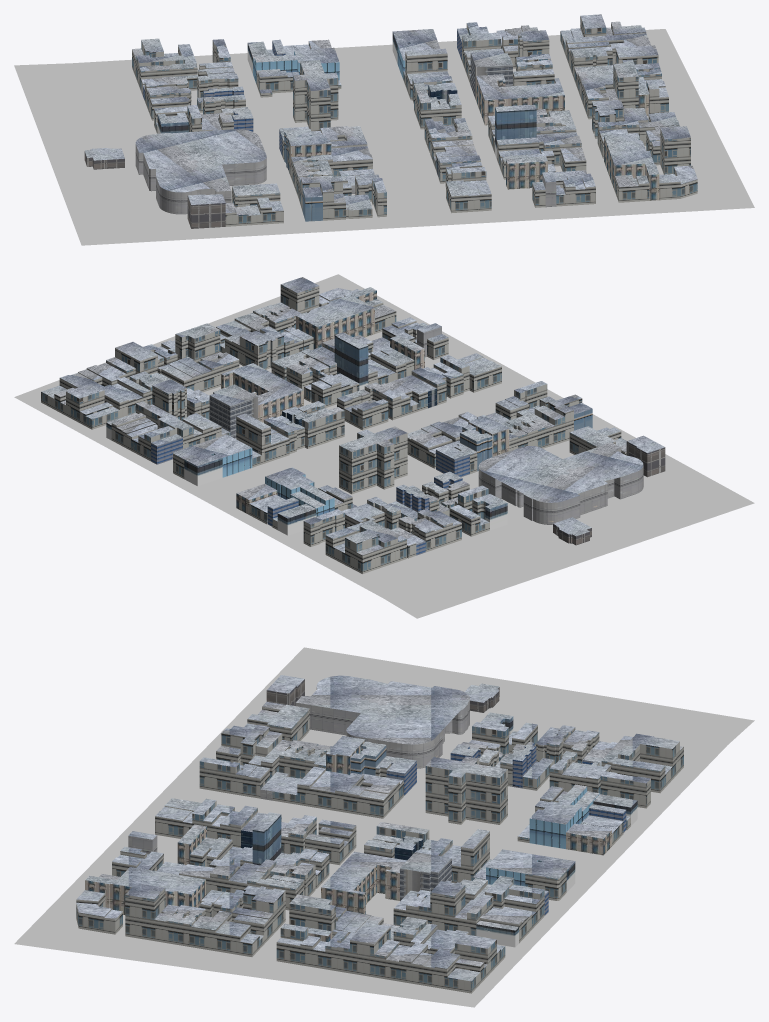
The model's file is manhattan_mesh.fbx.
The picture shows the model from 3 angles, top to bottom: view 1: azimuth 30°, elevation 25°; view 2: azimuth 150°, elevation 25°; view 3: azimuth 270°, elevation 25°; orthographic projection. The views are drawn at different scales.
Visible parts, largest first — view 1: Areas:building, EXPORT_GOOGLE_SAT_WM; view 2: Areas:building, EXPORT_GOOGLE_SAT_WM; view 3: Areas:building, EXPORT_GOOGLE_SAT_WM.
Part boxes in pixels (x1,y1,x2,y2): Areas:building: (84, 14, 697, 228); EXPORT_GOOGLE_SAT_WM: (14, 29, 754, 245); Areas:building: (41, 277, 665, 573); EXPORT_GOOGLE_SAT_WM: (14, 274, 754, 618); Areas:building: (76, 675, 683, 993); EXPORT_GOOGLE_SAT_WM: (14, 647, 754, 1007).
Size of the model in its own units: 65676 by 4530 by 57091.
